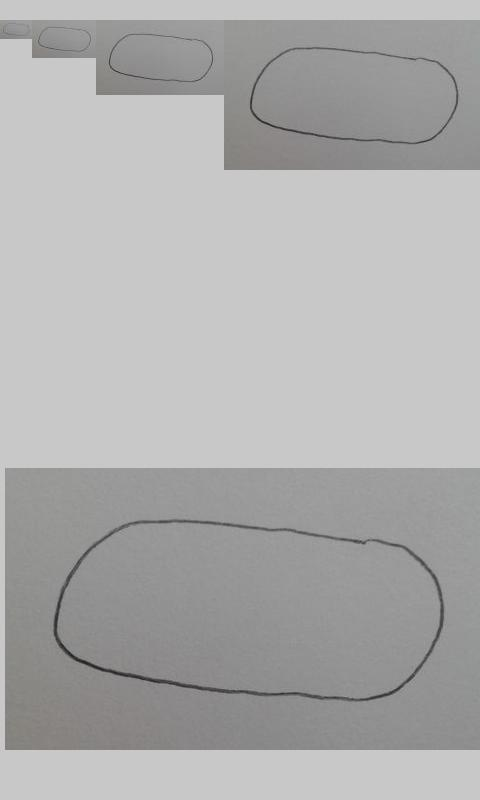chip: (53, 518, 448, 702), (250, 47, 459, 145), (109, 33, 214, 82), (37, 26, 91, 52), (2, 22, 31, 37)
